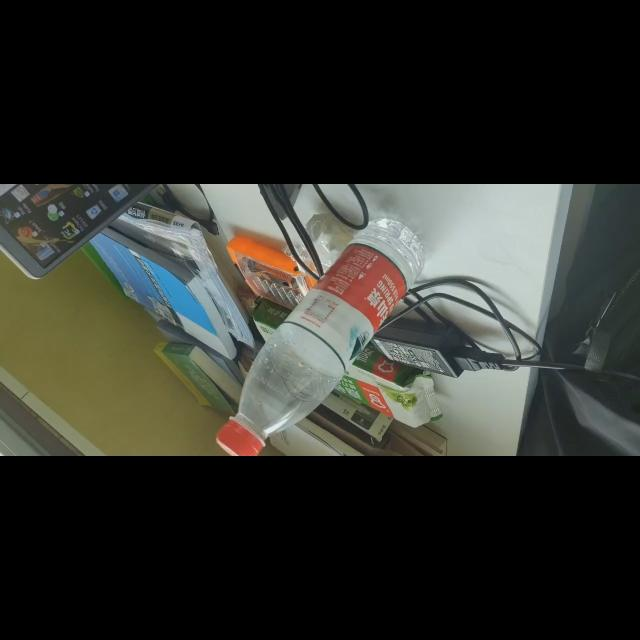trash: (215, 216, 423, 456)
